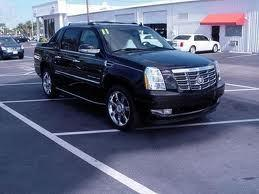Car: (29, 19, 229, 136), (165, 29, 225, 57), (1, 33, 28, 63)
